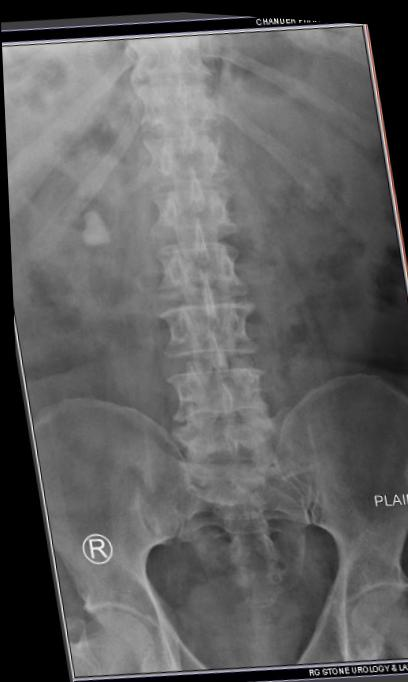vertebrae: (134, 165, 228, 241)
